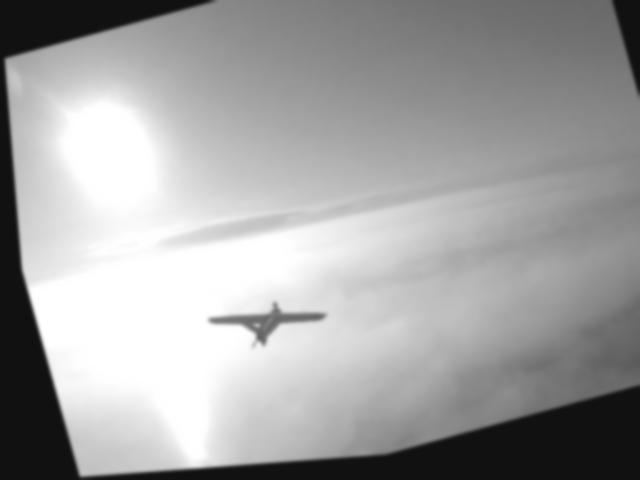hedef: (186, 281, 335, 376)
